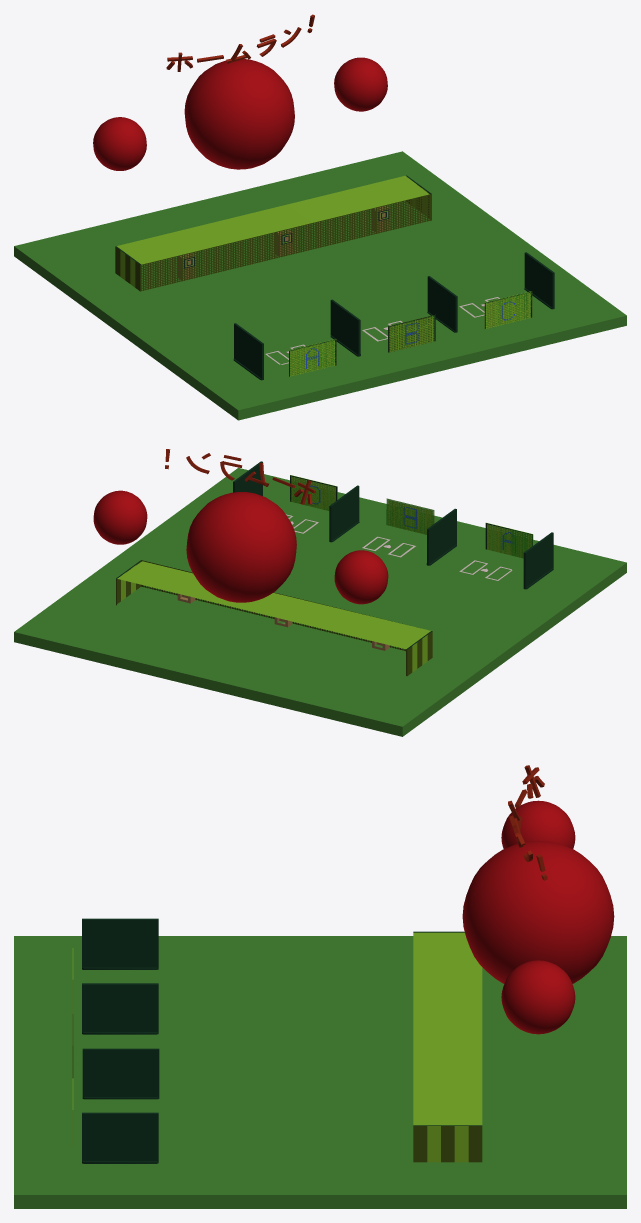
The model's file is BattingCenter.fbx.
3 renders of one model, top to bottom at view 1: azimuth 30°, elevation 25°; view 2: azimuth 150°, elevation 25°; view 3: azimuth 270°, elevation 25°, orthographic. The views are drawn at different scales.
Parts seen in each view (by area): view 1: turf, MachineFence, RedBallC, RedBallR, RedBallL, BackNetC, BackNetA, BackNetB, partition2, partition4, partition3, partition1 (+1 smaller); view 2: turf, RedBallC, MachineFence, RedBallR, RedBallL, BackNetB, BackNetA, partition1, partition3, partition2, HomeRun, BackNetC (+1 smaller); view 3: turf, RedBallC, MachineFence, RedBallR, partition3, partition1, partition4, partition2, RedBallL, HomeRun.
Part boxes in pixels (left/top/right/bottom): turf: left=14, top=151, right=626, bottom=420; MachineFence: left=115, top=175, right=431, bottom=291; RedBallC: left=184, top=59, right=294, bottom=169; RedBallR: left=334, top=57, right=387, bottom=111; RedBallL: left=93, top=117, right=146, bottom=170; BackNetC: left=484, top=291, right=532, bottom=328; BackNetA: left=289, top=339, right=336, bottom=376; BackNetB: left=388, top=314, right=435, bottom=352; partition2: left=330, top=299, right=360, bottom=356; partition4: left=524, top=252, right=554, bottom=309; partition3: left=427, top=276, right=457, bottom=332; partition1: left=233, top=323, right=263, bottom=380; turf: left=14, top=468, right=626, bottom=736; RedBallC: left=186, top=492, right=296, bottom=602; MachineFence: left=116, top=560, right=432, bottom=676; RedBallR: left=93, top=490, right=147, bottom=544; RedBallL: left=334, top=550, right=388, bottom=604; BackNetB: left=386, top=498, right=434, bottom=534; BackNetA: left=485, top=522, right=533, bottom=558; partition1: left=523, top=532, right=553, bottom=589; partition3: left=329, top=485, right=359, bottom=542; partition2: left=426, top=508, right=456, bottom=565; HomeRun: left=165, top=449, right=315, bottom=504; BackNetC: left=290, top=475, right=337, bottom=510; turf: left=14, top=936, right=626, bottom=1208; RedBallC: left=462, top=840, right=614, bottom=983; MachineFence: left=413, top=931, right=482, bottom=1162; RedBallR: left=501, top=960, right=575, bottom=1034; partition3: left=82, top=1048, right=159, bottom=1099; partition1: left=82, top=918, right=158, bottom=969; partition4: left=82, top=1112, right=158, bottom=1163; partition2: left=82, top=983, right=158, bottom=1034; RedBallL: left=501, top=800, right=575, bottom=848; HomeRun: left=508, top=765, right=547, bottom=880.
Size of the model in its own units: 400 by 196 by 400.
